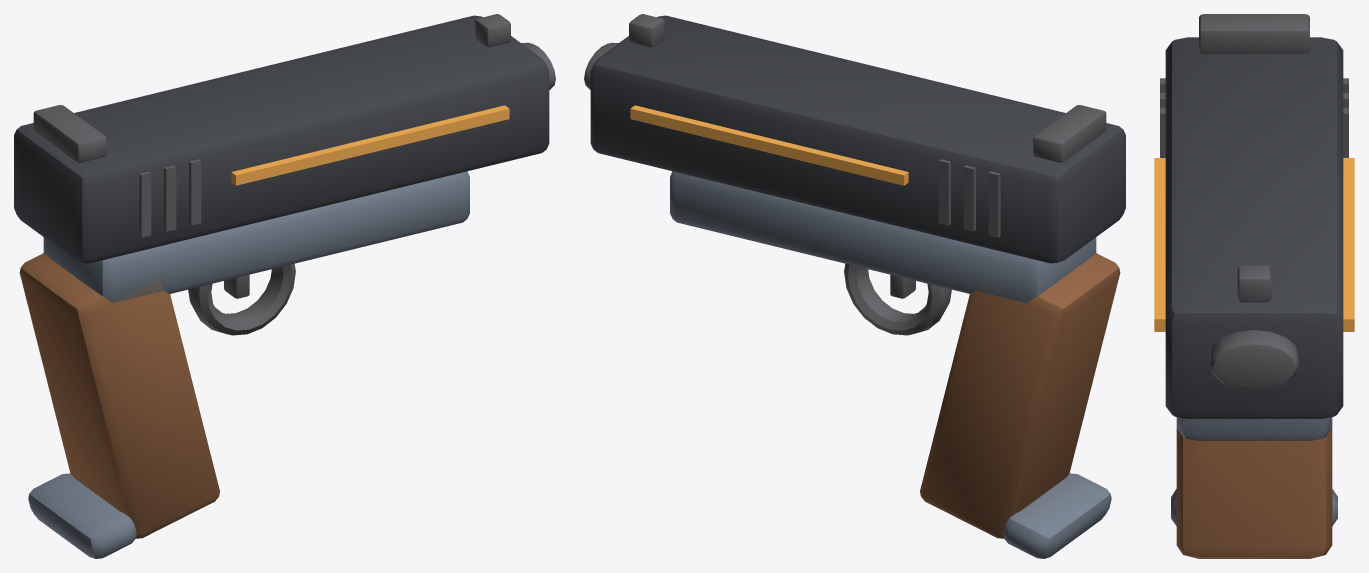
The model's file is SGP_Pistol_Classic.glb.
3 renders of one model, left to right at view 1: azimuth 30°, elevation 25°; view 2: azimuth 150°, elevation 25°; view 3: azimuth 270°, elevation 25°, orthographic. The views are drawn at different scales.
Parts seen in each view (by area): view 1: SGP_Pistol_Classic; view 2: SGP_Pistol_Classic; view 3: SGP_Pistol_Classic.
Part boxes in pixels (x1,y1,x2,y2): SGP_Pistol_Classic: (14,14,555,558); SGP_Pistol_Classic: (584,14,1125,558); SGP_Pistol_Classic: (1154,14,1354,558).
Size of the model in its own units: 0.199 by 0.1593 by 0.0576.
